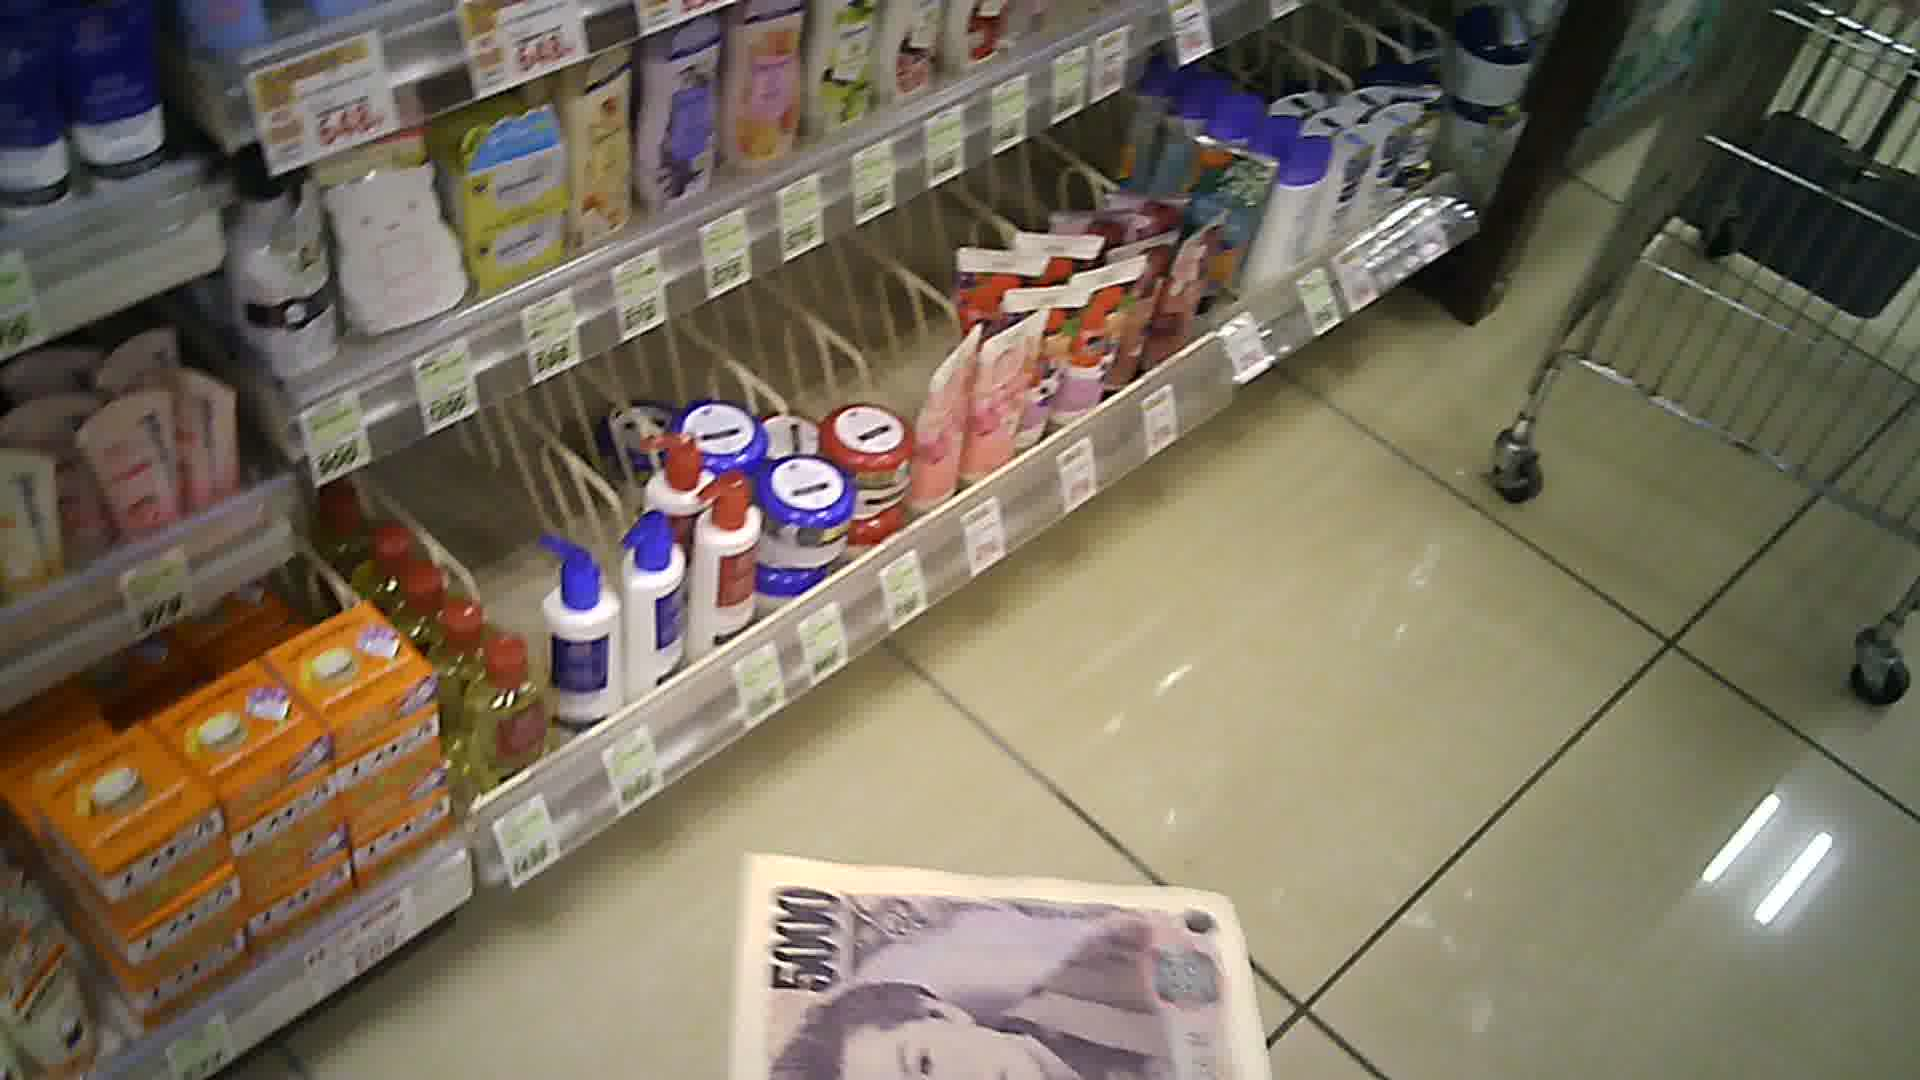5,000 Yen: (727, 841, 1287, 1077)
